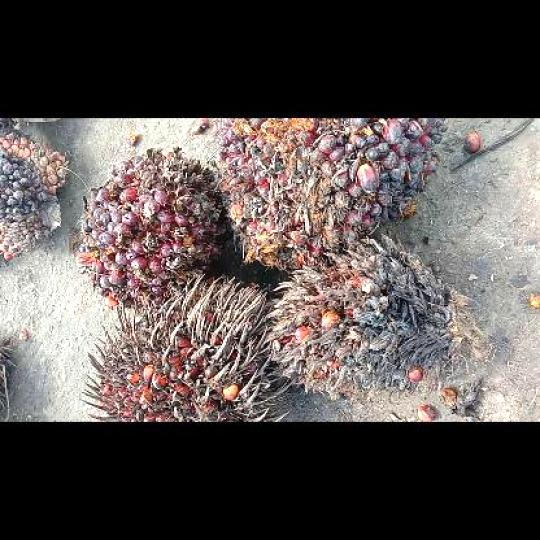masak: (215, 118, 441, 271), (75, 148, 221, 306)
terlalu masak: (269, 234, 476, 402), (80, 273, 289, 420)
